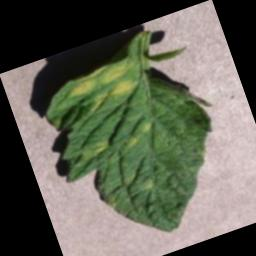Leaf_Mold: (63, 56, 134, 99), (85, 75, 143, 114), (92, 138, 111, 155), (139, 120, 154, 134)
